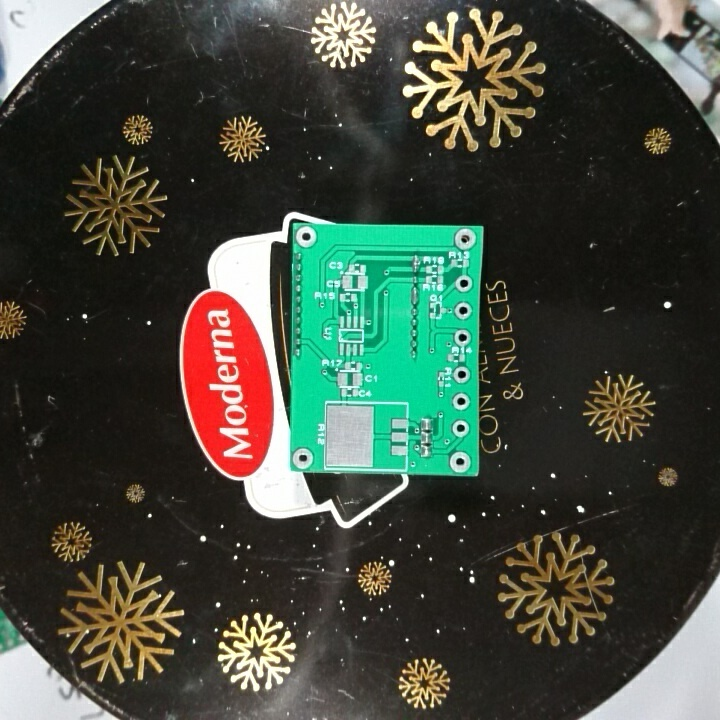F: (451, 226, 479, 253), (294, 223, 319, 251), (290, 446, 317, 470), (448, 449, 472, 472), (453, 300, 474, 323), (451, 364, 473, 385), (454, 272, 474, 295), (452, 325, 472, 348), (451, 417, 471, 440), (451, 392, 472, 411)
P: (409, 252, 422, 275), (409, 284, 420, 306)
